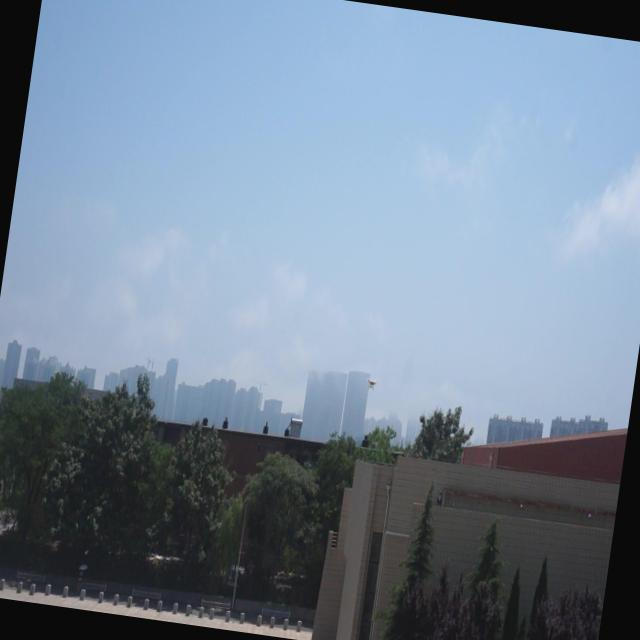drone: (367, 375, 378, 392)
